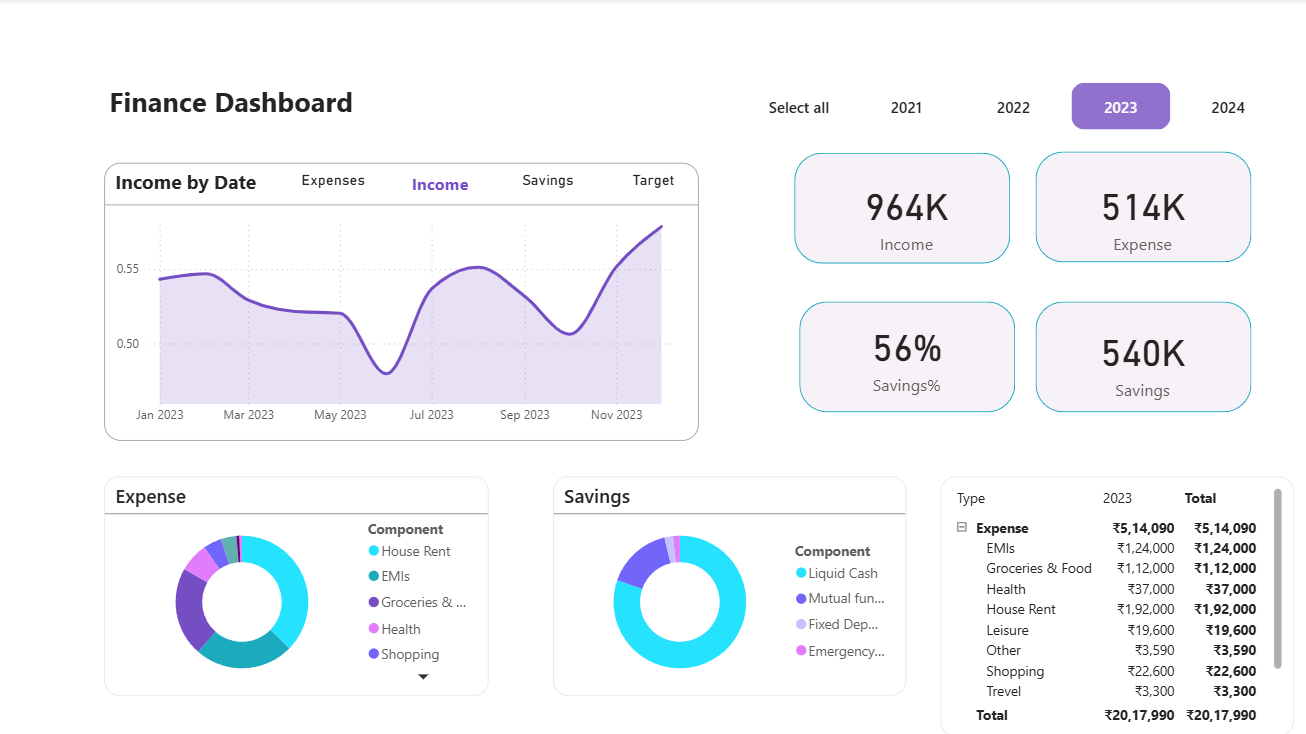

Layout of this report page (visuals, bound fields, positions):
{"tool":"powerbi","page":{"name":"Page 1","canvas":[1280,720],"ordinal":0},"visuals":[{"type":"shape","box":[1015.4,296.4,211.3,108.4],"z":0},{"type":"shape","box":[783.5,296.4,211.3,108.4],"z":1000},{"type":"shape","box":[1015.4,149.6,211.3,108.4],"z":2000},{"type":"shape","box":[779.4,150.9,211.3,108.4],"z":3000},{"type":"card","fields":{"Values":["Dataset.Expense"]},"box":[1037.4,160.5,166,101.5],"z":4000},{"type":"card","fields":{"Values":["Dataset.Income"]},"box":[809.6,160.5,159.2,101.5],"z":5000},{"type":"card","fields":{"Values":["Dataset.Savings"]},"box":[1037.4,303.3,166,101.5],"z":6000},{"type":"card","fields":{"Values":["Dataset.Savings%"]},"box":[809.6,293.7,159.2,111.1],"z":7000},{"type":"advancedSlicerVisual","fields":{"Values":["Dataset.Year"]},"box":[730,76.8,528.3,56.3],"z":8000},{"type":"donutChart","title":"Savings ","fields":{"Y":["Dataset.Savings"],"Category":["Dataset.Component"]},"box":[543.4,466.6,345.8,214.1],"z":9000},{"type":"donutChart","title":"Expense ","fields":{"Y":["Dataset.Expense"],"Category":["Dataset.Component"]},"box":[104.3,466.6,376,214.1],"z":10000},{"type":"pivotTable","fields":{"Values":["Dataset.Total_Value"],"Rows":["Dataset.Type","Dataset.Component"],"Columns":["Dataset.Year"]},"box":[922.1,466.6,345.8,253.9],"z":11000},{"type":"areaChart","fields":{"Category":["Dataset.Date"],"Y":["Dataset.Line_Chart_Measures"]},"box":[104.3,160.5,581.8,271.7],"z":12000},{"type":"advancedSlicerVisual","fields":{"Values":["Line _Selection_Table.Type"]},"box":[278.6,150.9,437.7,48],"z":13000},{"type":"textbox","box":[104.3,76.8,266.2,56.3],"z":14000}]}

Visuals, with their boxes in screenshot pixels (x1, y1, x2, y2), scaled from the page's 1280x720 canvas onto the 1306x734 screenshot:
shape: <bbox>1036, 302, 1252, 413</bbox>
shape: <bbox>799, 302, 1015, 413</bbox>
shape: <bbox>1036, 153, 1252, 263</bbox>
shape: <bbox>795, 154, 1011, 264</bbox>
card - Dataset.Expense: <bbox>1058, 164, 1228, 267</bbox>
card - Dataset.Income: <bbox>826, 164, 988, 267</bbox>
card - Dataset.Savings: <bbox>1058, 309, 1228, 413</bbox>
card - Dataset.Savings%: <bbox>826, 299, 988, 413</bbox>
advancedSlicerVisual - Dataset.Year: <bbox>745, 78, 1284, 136</bbox>
"Savings " donutChart: <bbox>554, 476, 907, 694</bbox>
"Expense " donutChart: <bbox>106, 476, 490, 694</bbox>
pivotTable - Dataset.Total_Value x Dataset.Type: <bbox>941, 476, 1294, 733</bbox>
areaChart - Dataset.Date x Dataset.Line_Chart_Measures: <bbox>106, 164, 700, 441</bbox>
advancedSlicerVisual - Line _Selection_Table.Type: <bbox>284, 154, 731, 203</bbox>
textbox: <bbox>106, 78, 378, 136</bbox>
